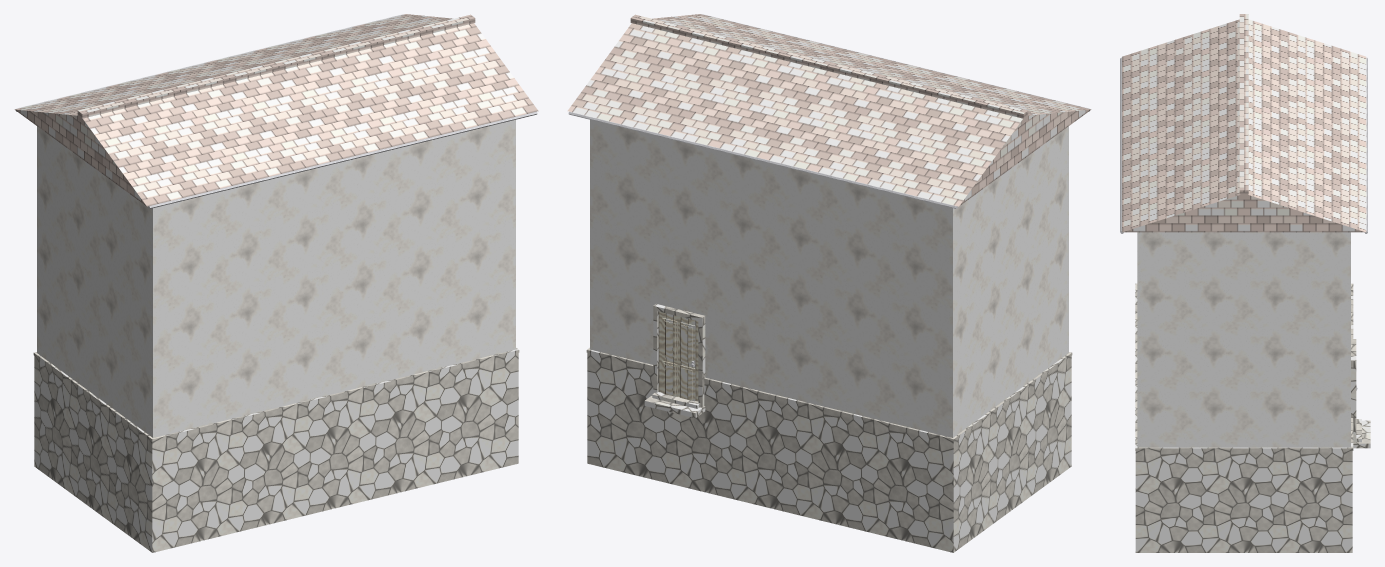
3 renders of one model, left to right at view 1: azimuth 30°, elevation 25°; view 2: azimuth 150°, elevation 25°; view 3: azimuth 270°, elevation 25°, orthographic. The views are drawn at different scales.
Parts seen in each view (by area): view 1: b1085383207; view 2: b1085383207; view 3: b1085383207.
Part boxes in pixels (<box>): b1085383207: <box>14,14,538,552</box>; b1085383207: <box>567,14,1091,552</box>; b1085383207: <box>1120,14,1370,552</box>.
Bounding box in the file's own units: 9.58 × 9.33 × 5.74.
Materials: 11 (11 with a texture image).
